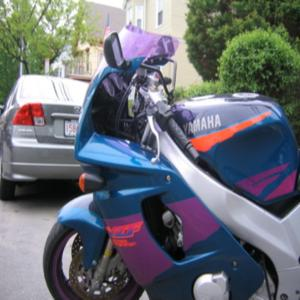Vehicle-registration-plate: (65, 120, 79, 138)
